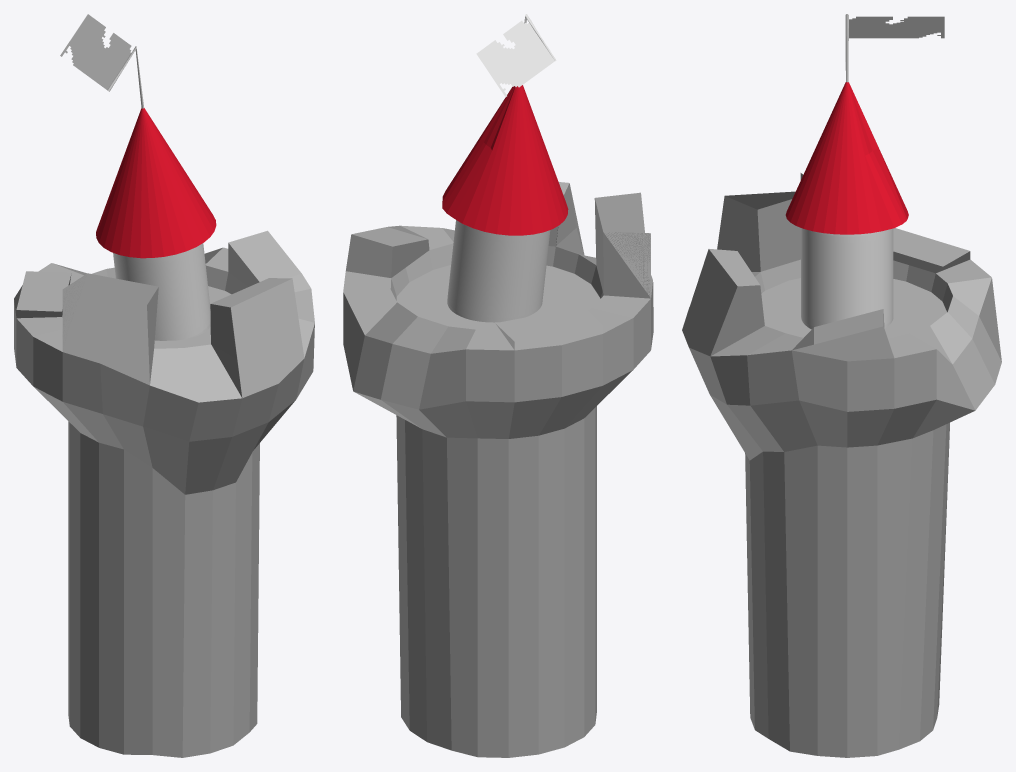
Rendered from TowerD2.fbx.
3 renders of one model, left to right at view 1: azimuth 30°, elevation 25°; view 2: azimuth 150°, elevation 25°; view 3: azimuth 270°, elevation 25°, orthographic. The views are drawn at different scales.
Visible parts, largest first — view 1: Cylinder, Cone, Cylinder.001, Plane; view 2: Cylinder, Cone, Cylinder.001, Plane; view 3: Cylinder, Cone, Cylinder.001, Plane.
Boxes of the visible parts, bbox=[...] form: Cylinder: bbox=[14, 230, 314, 757]; Cone: bbox=[96, 108, 216, 258]; Cylinder.001: bbox=[113, 243, 210, 340]; Plane: bbox=[60, 14, 131, 89]; Cylinder: bbox=[343, 182, 653, 757]; Cone: bbox=[442, 85, 568, 235]; Cylinder.001: bbox=[447, 220, 550, 322]; Plane: bbox=[476, 20, 554, 97]; Cylinder: bbox=[682, 173, 1001, 757]; Cone: bbox=[785, 82, 908, 234]; Cylinder.001: bbox=[801, 228, 893, 329]; Plane: bbox=[849, 16, 944, 38].
Bounding box in the file's own units: 857 × 2153 × 903.
